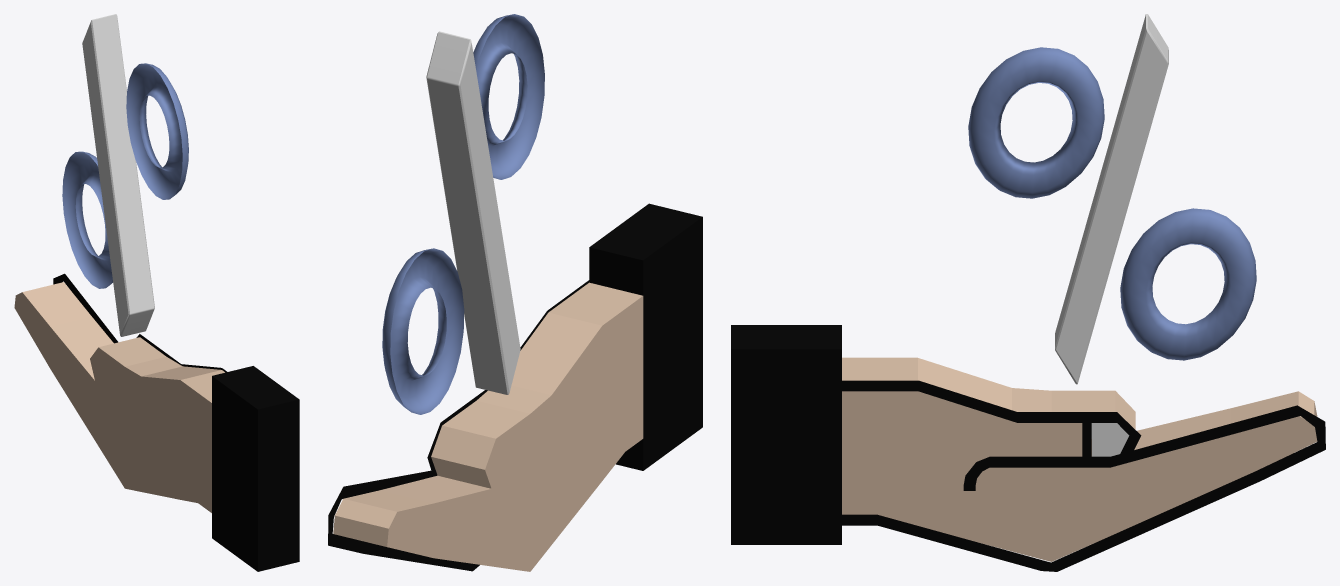
The model's file is interest payout.fbx.
The picture shows the model from 3 angles, left to right: view 1: azimuth 30°, elevation 25°; view 2: azimuth 150°, elevation 25°; view 3: azimuth 270°, elevation 25°; orthographic projection. The views are drawn at different scales.
Parts seen in each view (by area): view 1: polySurface15, polySurface23, pTorus2, pTorus1; view 2: polySurface15, polySurface23, pTorus1, pTorus2; view 3: polySurface15, polySurface23, pTorus1, pTorus2.
Part boxes in pixels (x1=…): polySurface15: x1=14, y1=273, x2=299, y2=571; polySurface23: x1=82, y1=14, x2=154, y2=336; pTorus2: x1=126, y1=63, x2=188, y2=199; pTorus1: x1=62, y1=151, x2=112, y2=288; polySurface15: x1=328, y1=203, x2=702, y2=571; polySurface23: x1=426, y1=31, x2=520, y2=394; pTorus1: x1=382, y1=248, x2=464, y2=414; pTorus2: x1=473, y1=14, x2=544, y2=179; polySurface15: x1=731, y1=325, x2=1325, y2=571; polySurface23: x1=1055, y1=14, x2=1168, y2=384; pTorus1: x1=1120, y1=208, x2=1256, y2=360; pTorus2: x1=968, y1=47, x2=1104, y2=198.
Bounding box in the file's own units: 1.15 × 11.68 × 11.73.
